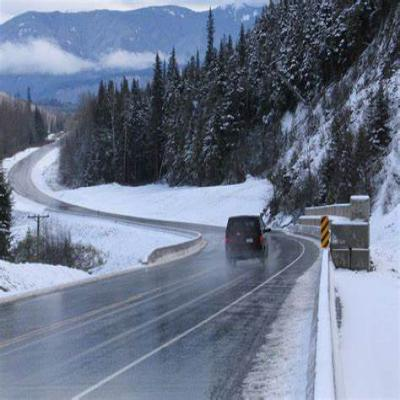iced-road: (0, 235, 318, 400)
